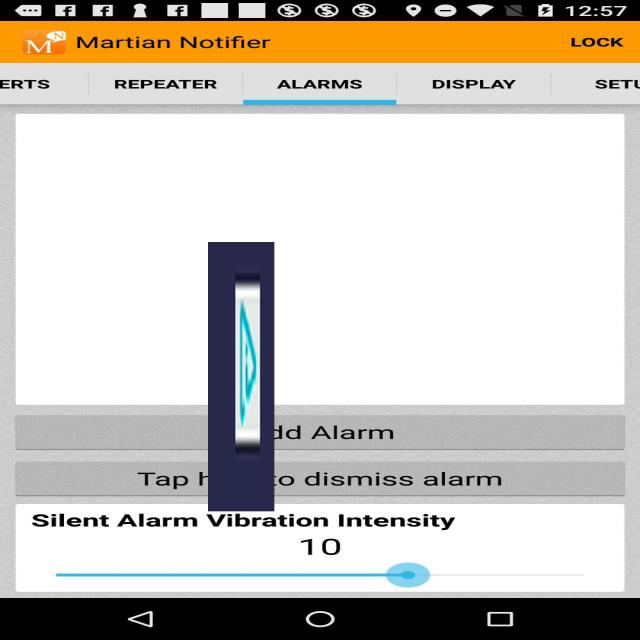sneaking: (208, 242, 274, 511)
